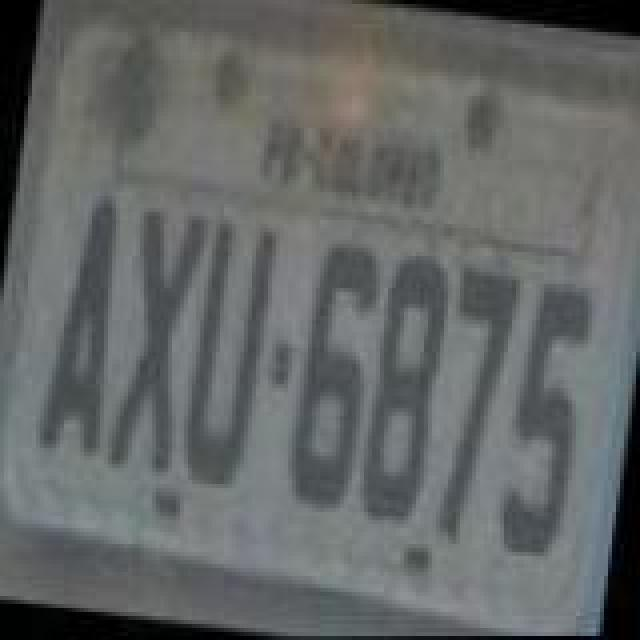5: (492, 276, 600, 572)
6: (282, 240, 386, 516)
7: (422, 264, 518, 544)
8: (352, 252, 452, 532)
A: (34, 188, 134, 460)
U: (176, 218, 280, 494)
X: (104, 206, 208, 478)
